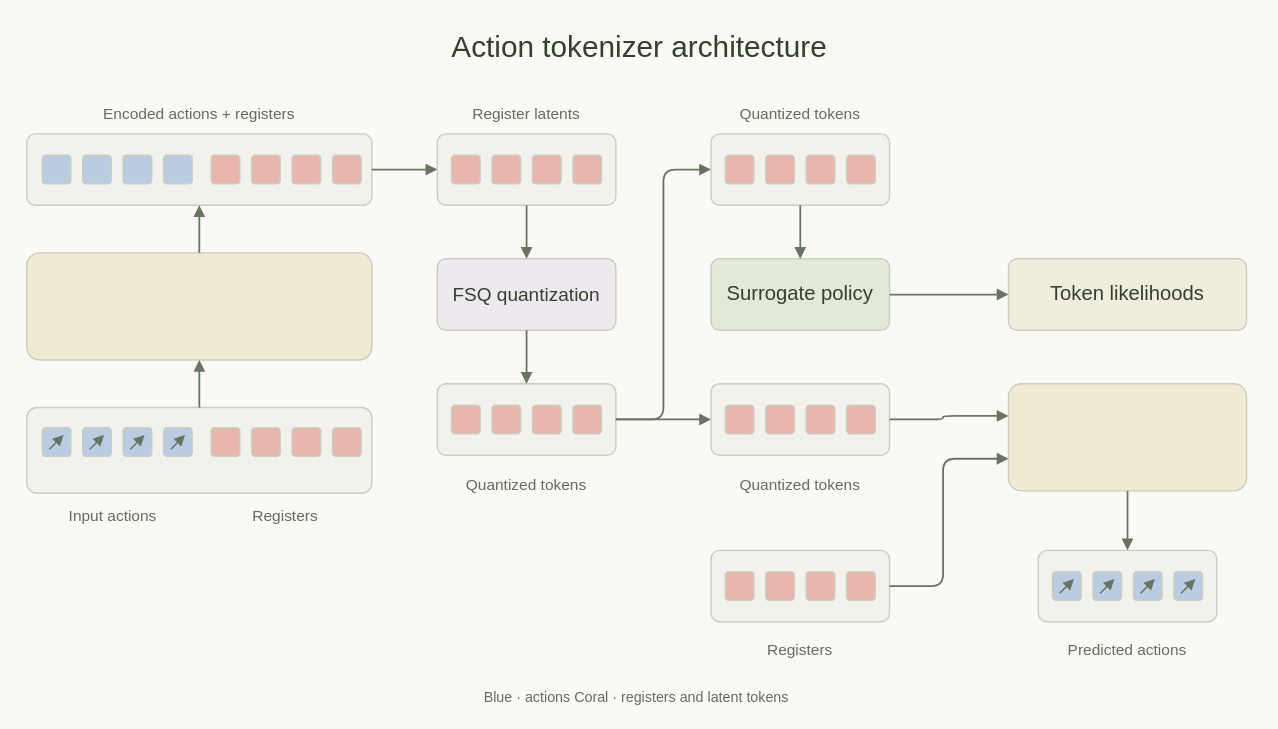
Some shapes in this 1278 by 729 pixel diagram are drawn without their labels. Here are the shapes that lost their labels. From the top down, the box of each, then its label:
(25, 252, 372, 360): Encoder
(1007, 382, 1247, 491): Decoder
